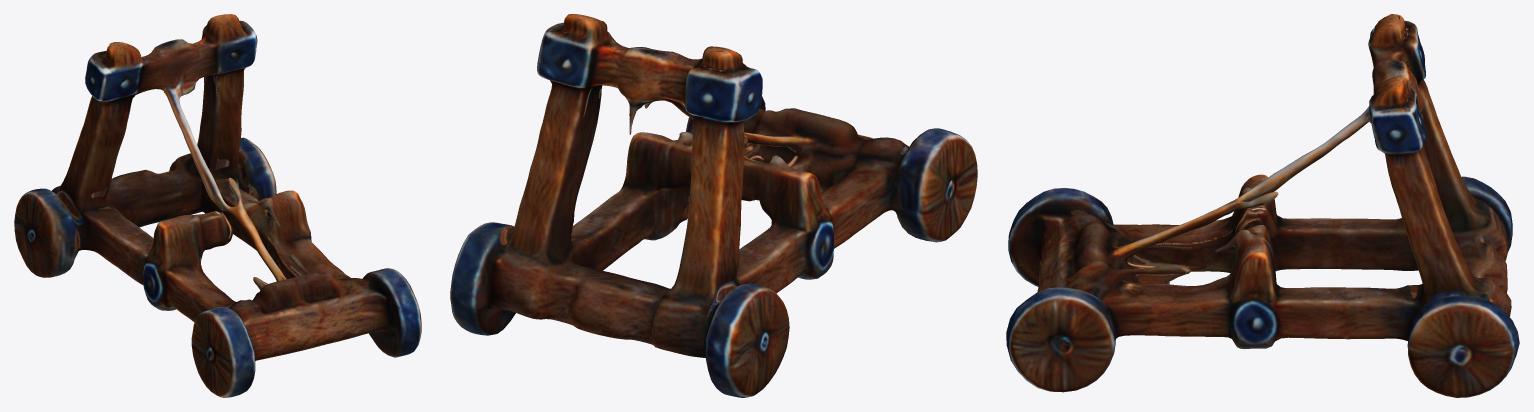
File: stone-catapult.glb
3 renders of one model, left to right at view 1: azimuth 30°, elevation 25°; view 2: azimuth 150°, elevation 25°; view 3: azimuth 270°, elevation 25°, orthographic. The views are drawn at different scales.
Visible parts, largest first — view 1: mesh; view 2: mesh; view 3: mesh.
Part boxes in pixels (x1,y1,x2,y2): mesh: [14, 14, 421, 397]; mesh: [450, 14, 977, 397]; mesh: [1006, 14, 1519, 397].
Bounding box in the file's own units: 0.6251 × 0.6232 × 0.9977.
1 material, 1 textured.
